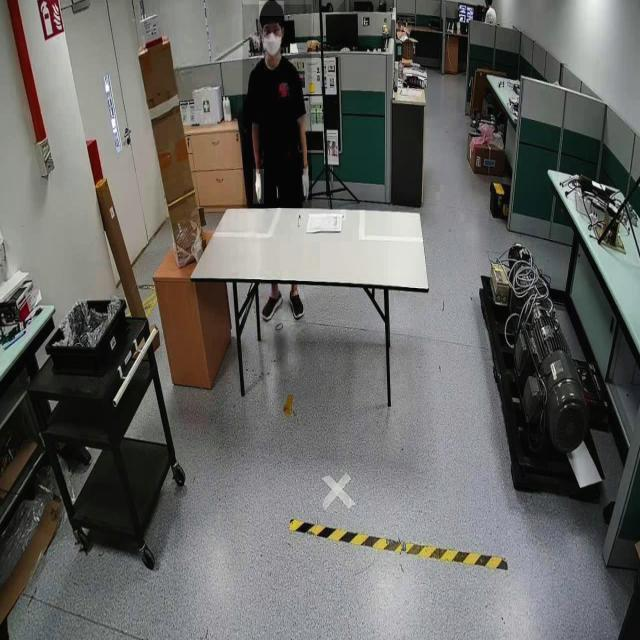face_mask: (262, 18, 282, 60)
hand_glove: (298, 164, 312, 201), (253, 169, 265, 204)
head_nohelmet: (259, 1, 285, 17)
person: (242, 4, 312, 209)
shoes: (261, 285, 285, 322), (288, 286, 308, 325)
